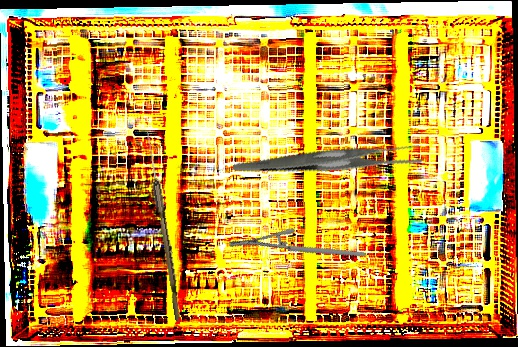Dressing Forceps: (232, 103, 426, 214)
Needle Holder: (226, 200, 368, 299)
Surgical Spoon: (142, 131, 185, 322)
